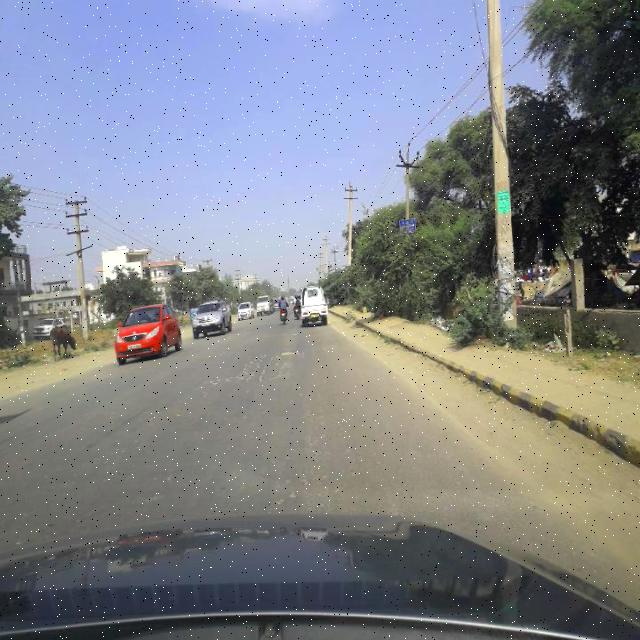D20: (216, 348, 282, 383)
D40: (274, 346, 306, 359)
